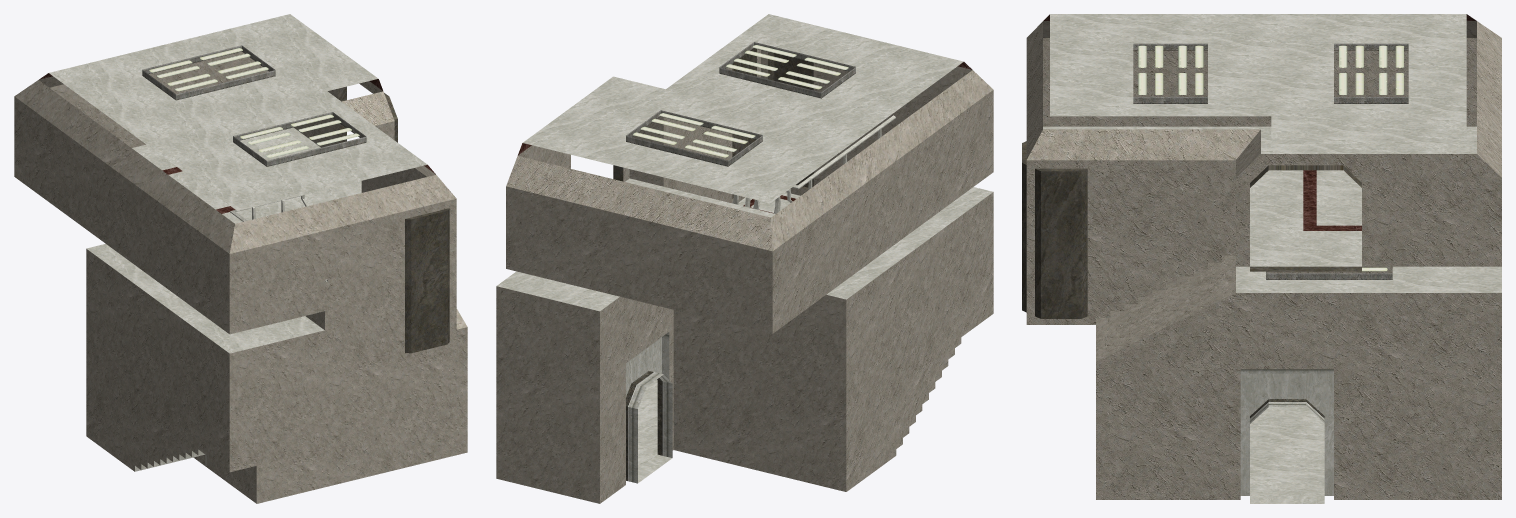
File: ply_nboo_assoc_hall_civ_s01_r6_stairwellb_mesh_stairwellb.fbx
3 views of the same model, side by side, from view 1: azimuth 30°, elevation 25°; view 2: azimuth 150°, elevation 25°; view 3: azimuth 270°, elevation 25° (orthographic). The views are drawn at different scales.
Visible parts, largest first — view 1: mesh_node; view 2: mesh_node; view 3: mesh_node.
Boxes of the visible parts, bbox=[...] form: mesh_node: bbox=[14, 14, 467, 503]; mesh_node: bbox=[496, 14, 993, 503]; mesh_node: bbox=[1022, 14, 1501, 503].
Size of the model in its own units: 9.45 by 10.58 by 12.86.
